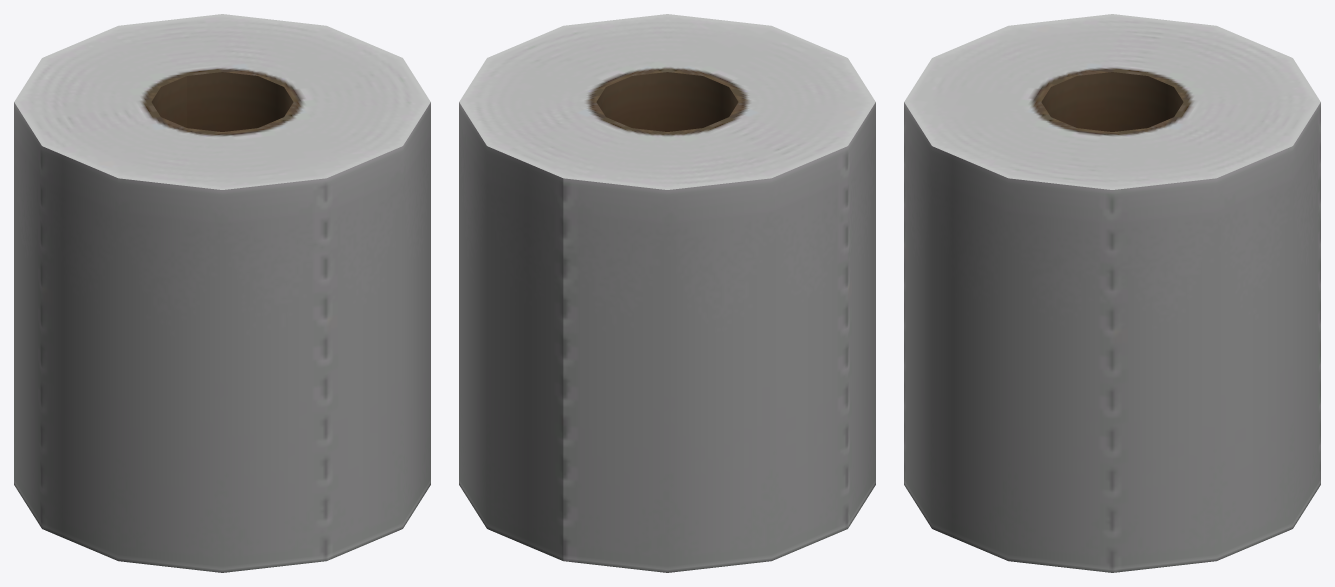
Rendered from papelVater.fbx.
3 views of the same model, side by side, from view 1: azimuth 30°, elevation 25°; view 2: azimuth 150°, elevation 25°; view 3: azimuth 270°, elevation 25° (orthographic).
Parts seen in each view (by area): view 1: papelVater; view 2: papelVater; view 3: papelVater.
Part boxes in pixels (bbox=[...]): papelVater: bbox=[14, 14, 430, 572]; papelVater: bbox=[459, 14, 875, 572]; papelVater: bbox=[904, 14, 1320, 572].
Bounding box in the file's own units: 11.66 × 11.82 × 11.66.
Materials: 1 (1 with a texture image).
